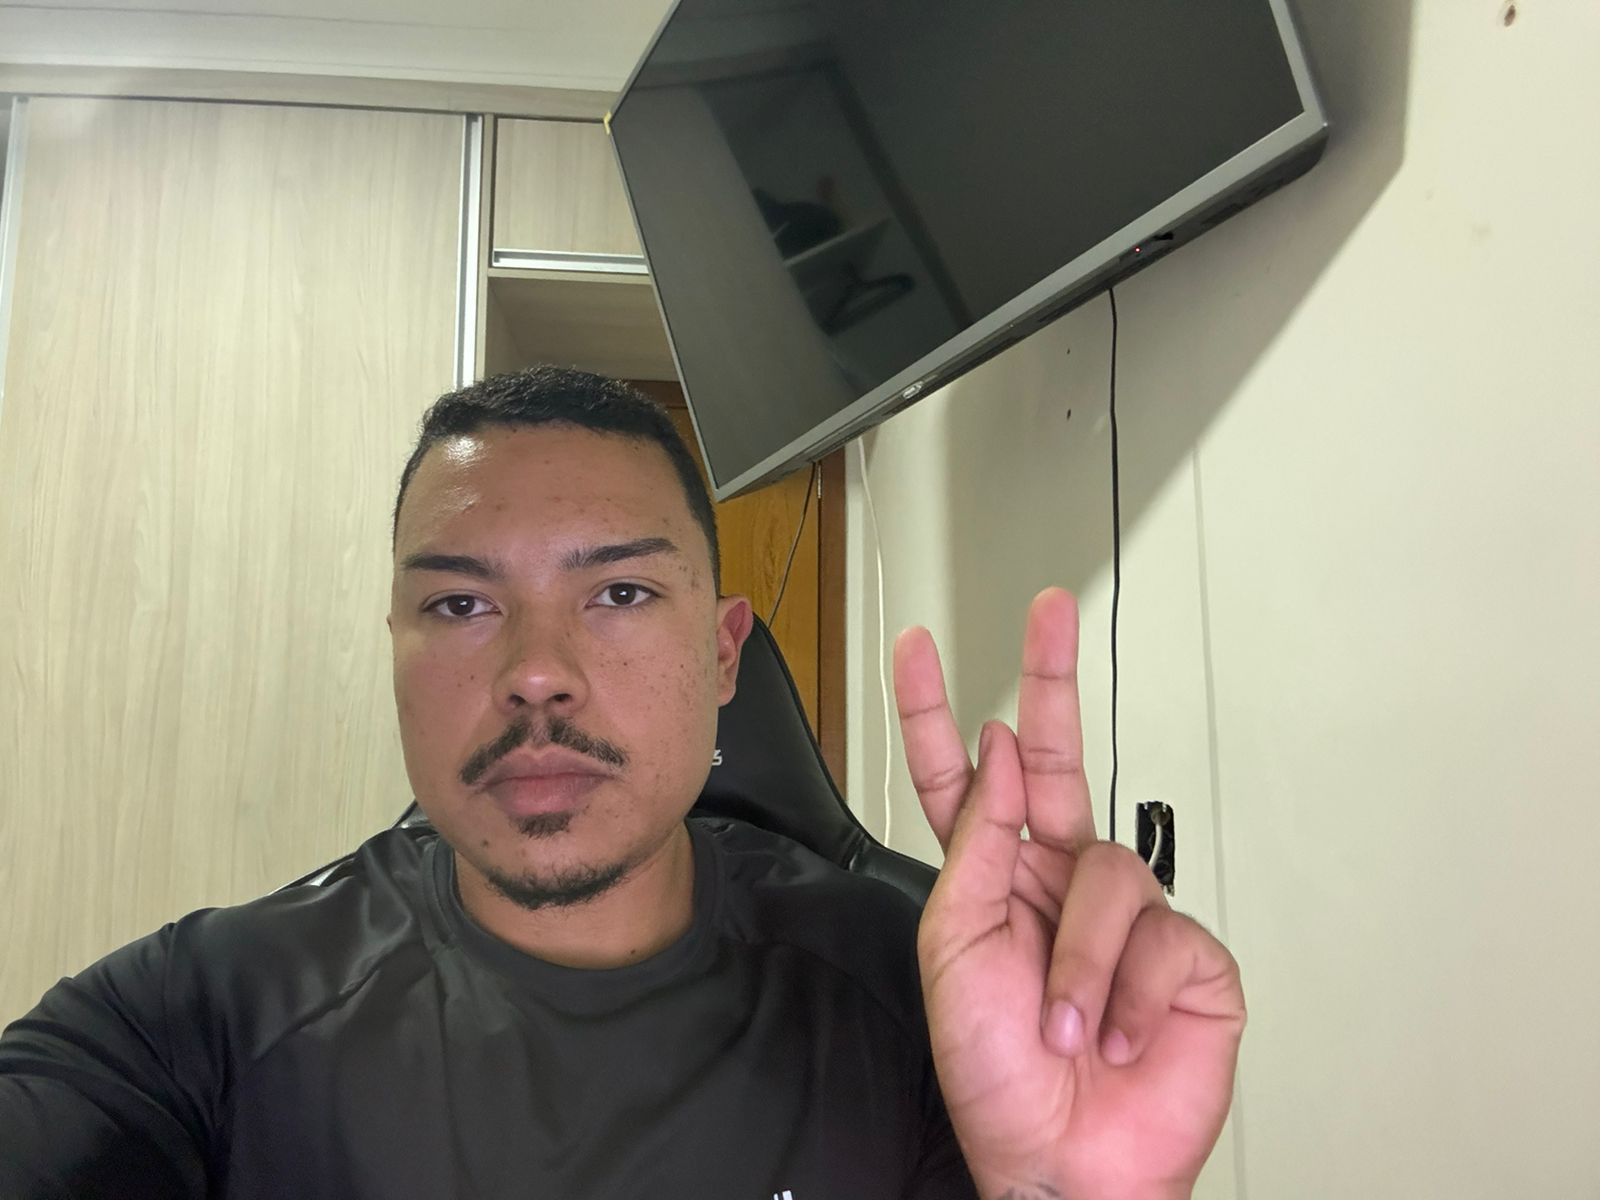k: (877, 584, 1276, 1200)
